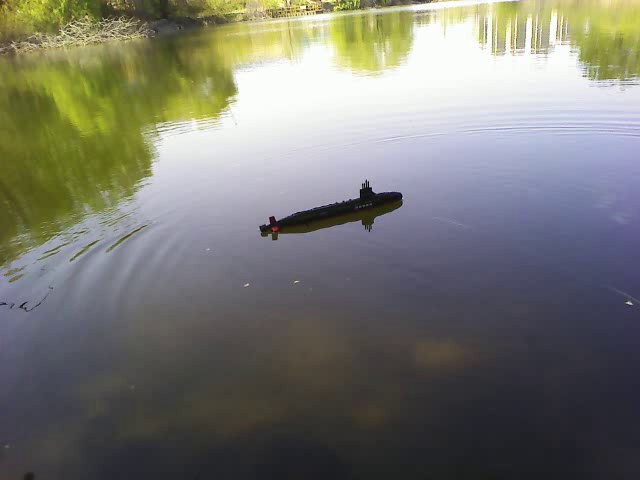submarine: (258, 174, 404, 237)
